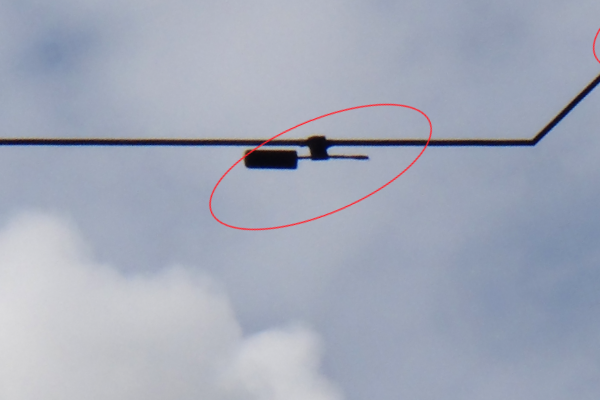damper_defect: (242, 133, 373, 170)
